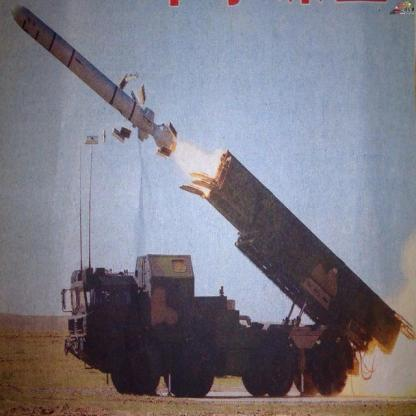MIL_TBM: (0, 0, 182, 159)
